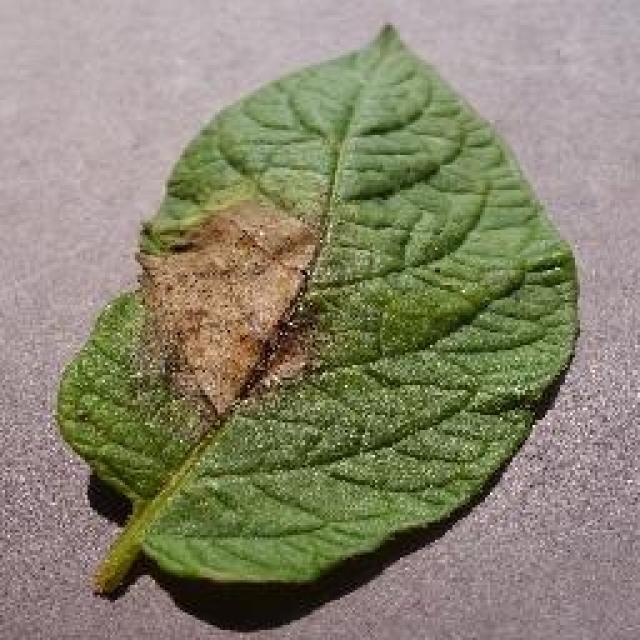late_blight: (50, 20, 582, 598)
